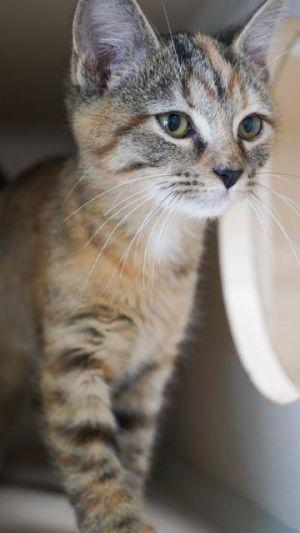bengal: (42, 1, 300, 219)
